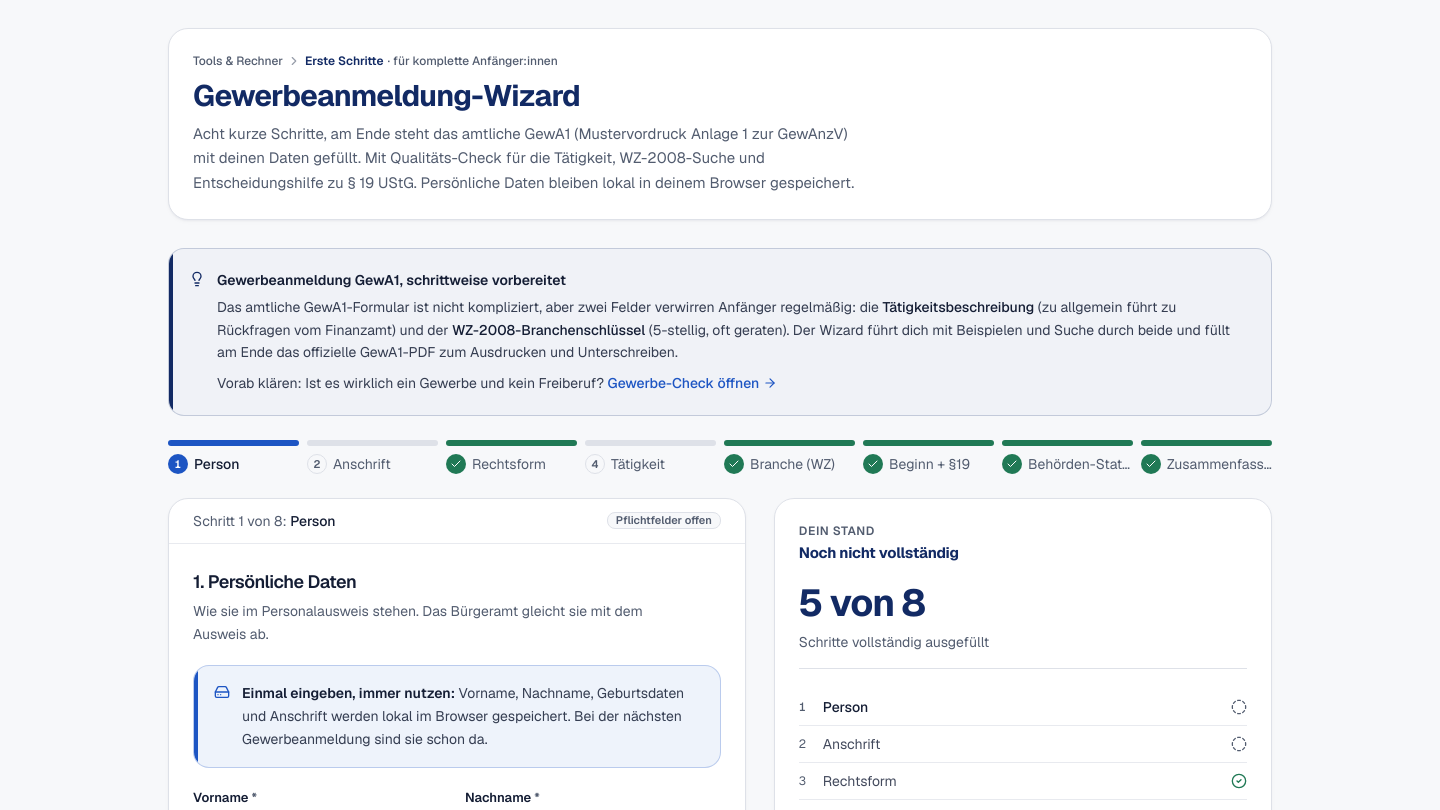
GewerbeanmeldungWizard — Navigation › Progress-Dots sind klickbar (direkt zu Step)
Click the button "4 Tätigkeit".
click(650, 457)  # box [585,440,716,474]
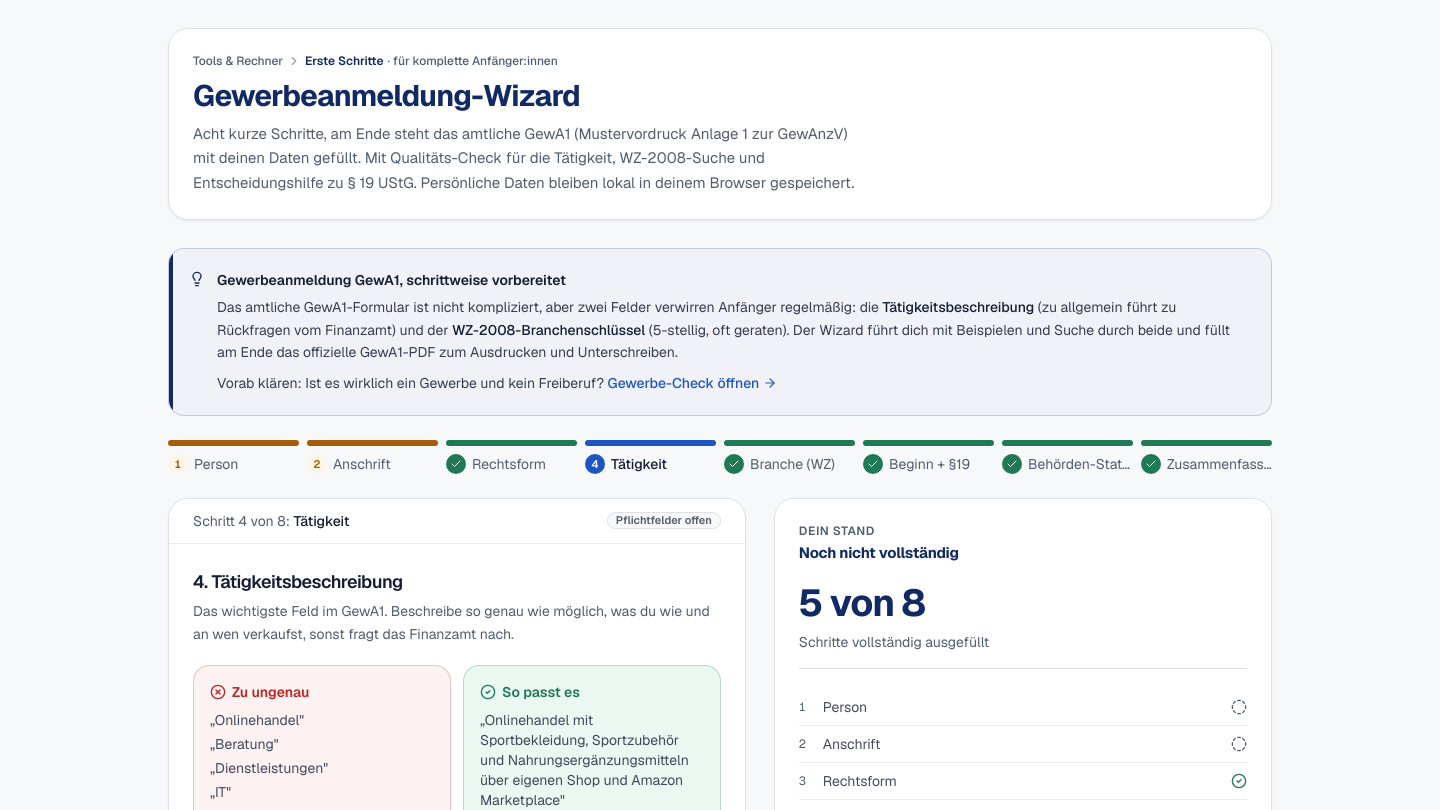
Expected: the text "Schritt 4 von 8" is shown, [193,511,349,531]
